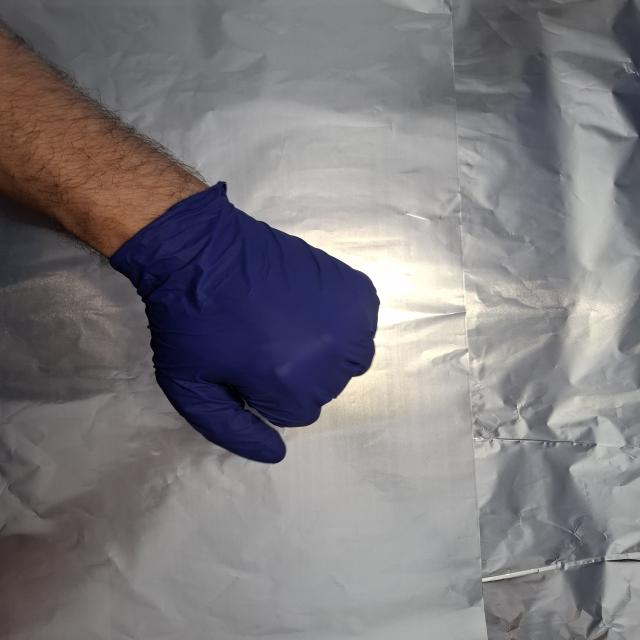glove_on: (124, 186, 383, 466)
